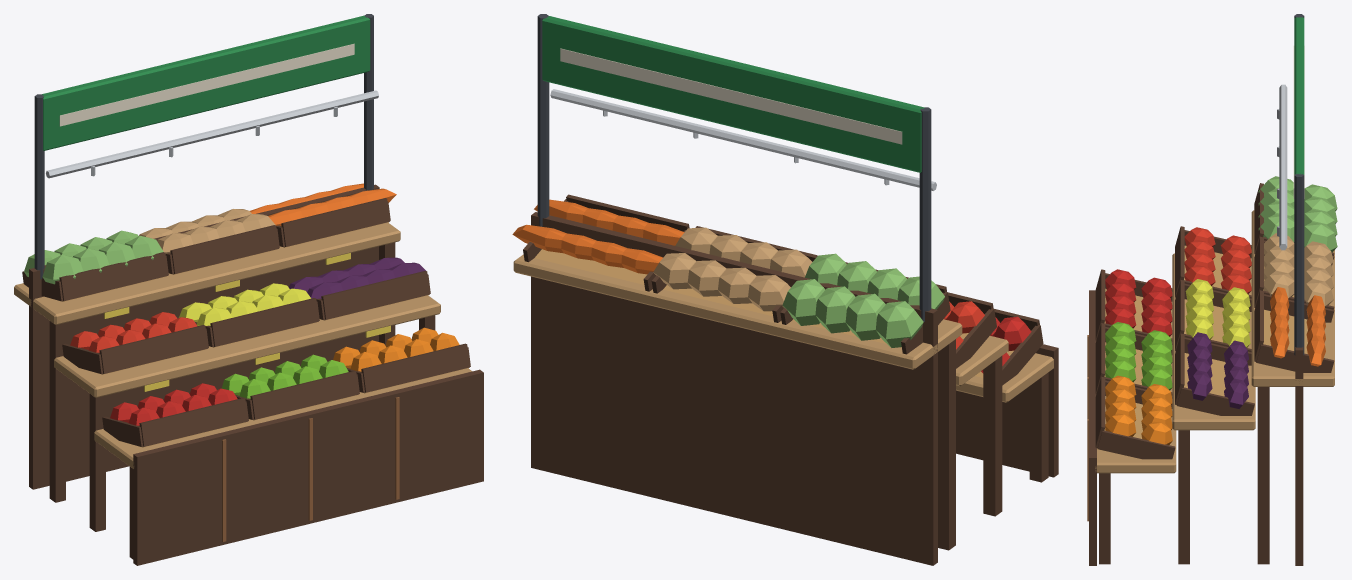
File: Produce_Table_Tiered_Market.glb
The picture shows the model from 3 angles, left to right: view 1: azimuth 30°, elevation 25°; view 2: azimuth 150°, elevation 25°; view 3: azimuth 270°, elevation 25°; orthographic projection. The views are drawn at different scales.
Parts seen in each view (by area): view 1: Produce_Table_Tiered_Market; view 2: Produce_Table_Tiered_Market; view 3: Produce_Table_Tiered_Market.
Part boxes in pixels (box(x1,y1,x2,y2)): Produce_Table_Tiered_Market: box(14, 14, 483, 565); Produce_Table_Tiered_Market: box(512, 14, 1058, 565); Produce_Table_Tiered_Market: box(1087, 14, 1337, 565).
Size of the model in its own units: 2.04 by 2.15 by 1.26.
1 material, 1 textured.
